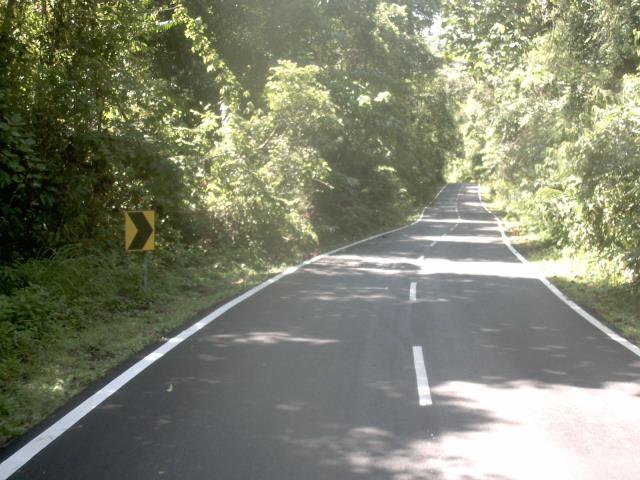traffic_sign: (113, 201, 165, 264)
